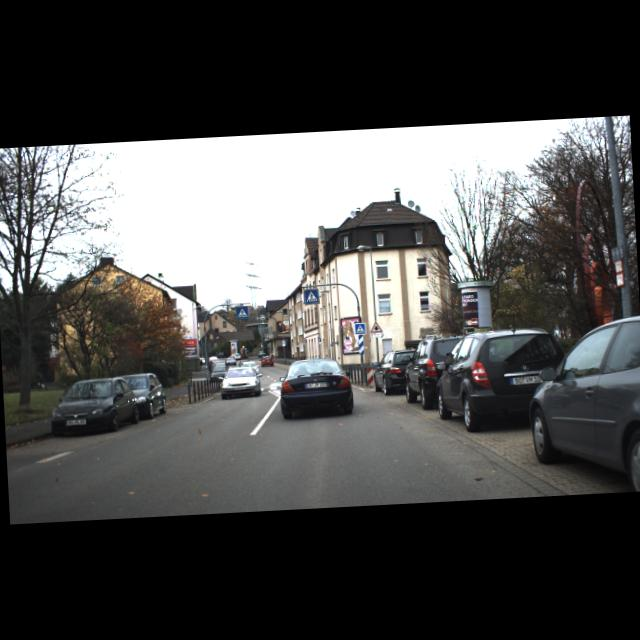danger: (369, 321, 384, 334)
